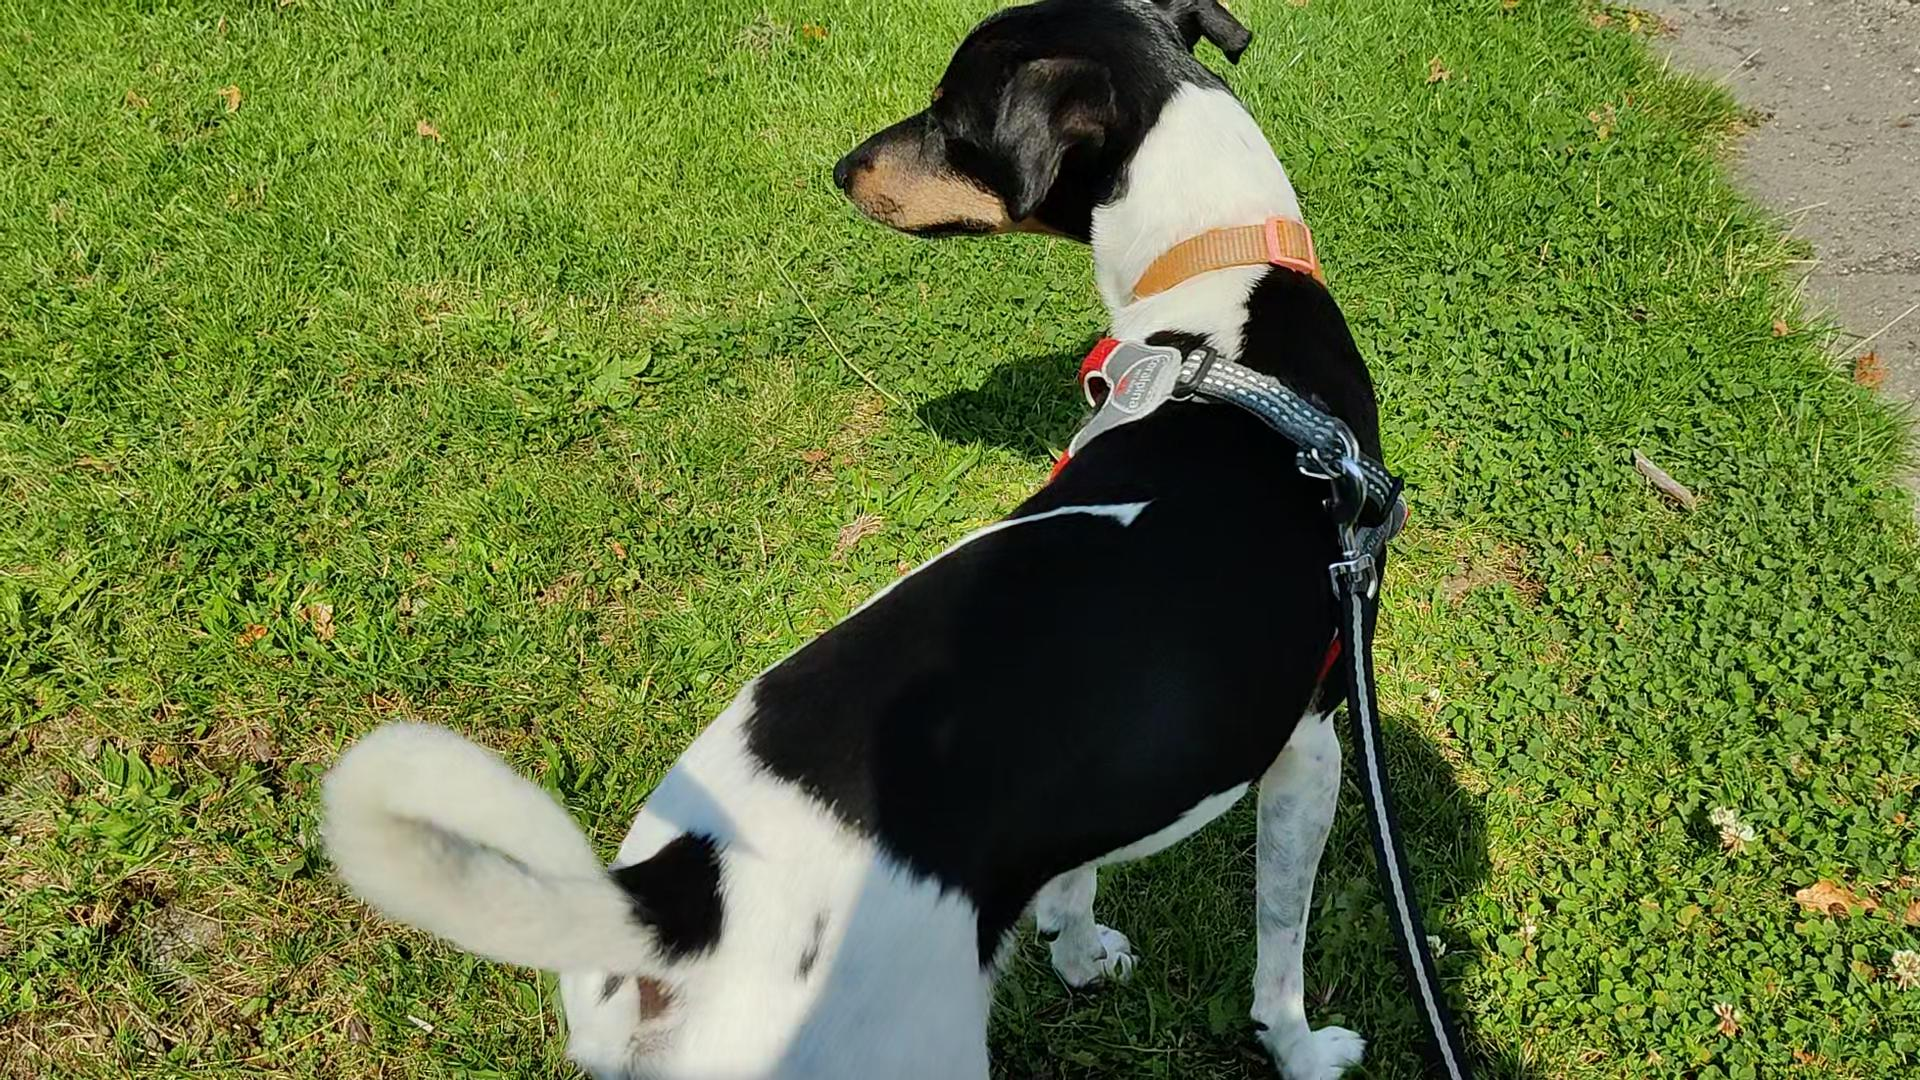Dog: (301, 0, 1396, 1079)
